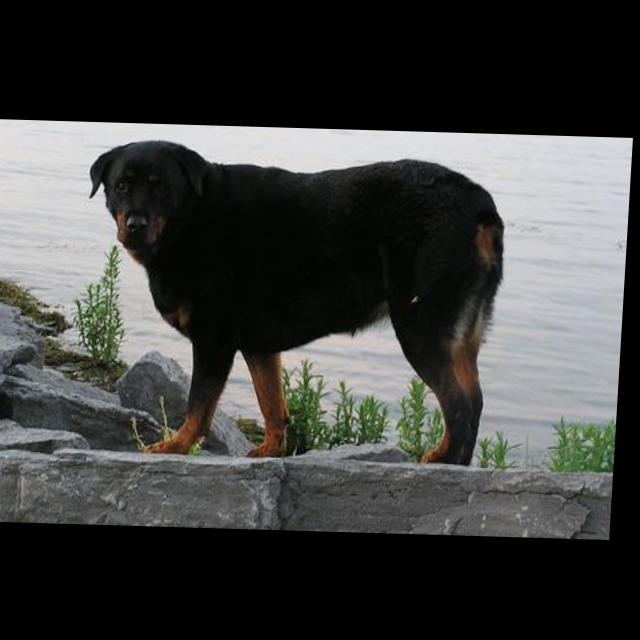rottweiler: (80, 137, 515, 464)
